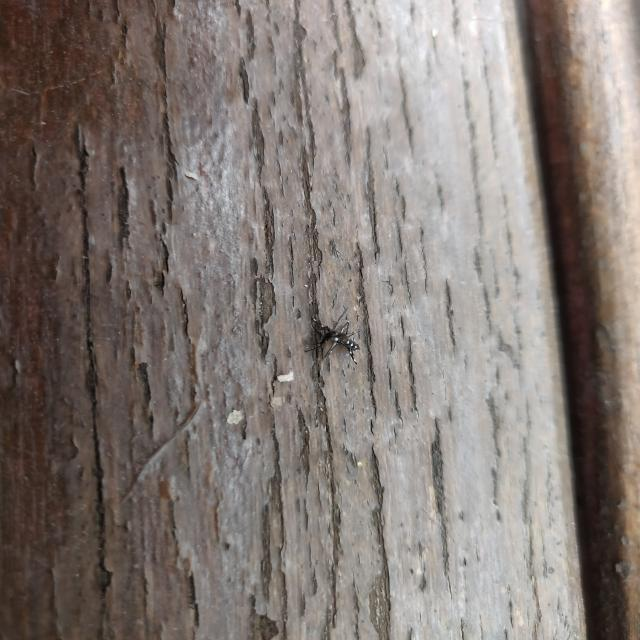albopictus: (294, 308, 368, 370)
